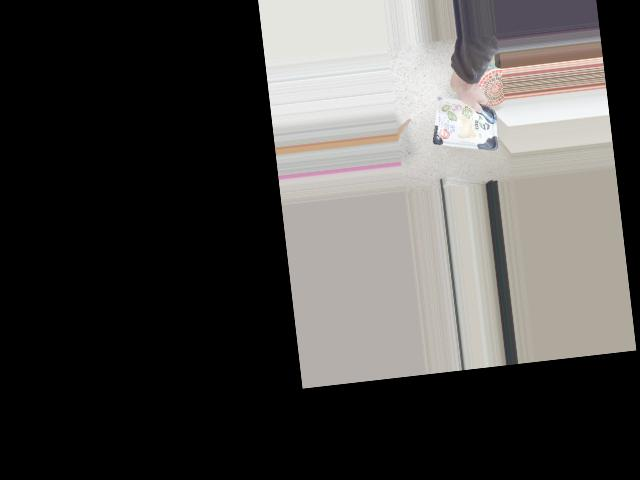cheese: (427, 96, 504, 151)
